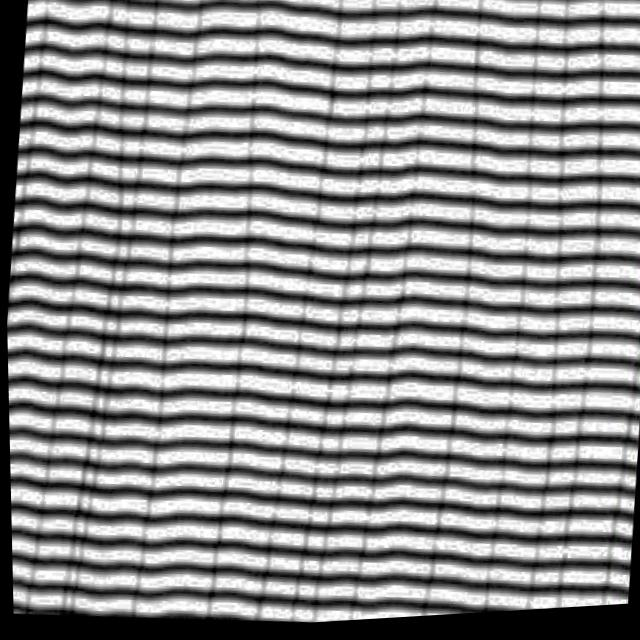Stitch: (5, 277, 31, 612)
